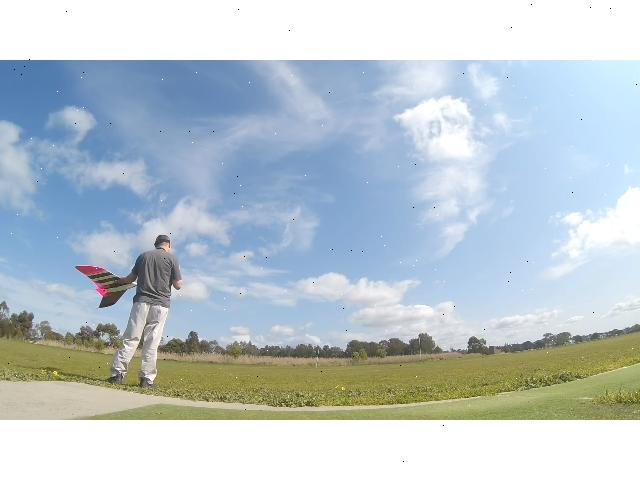Anti-Drone: (68, 256, 146, 314)
